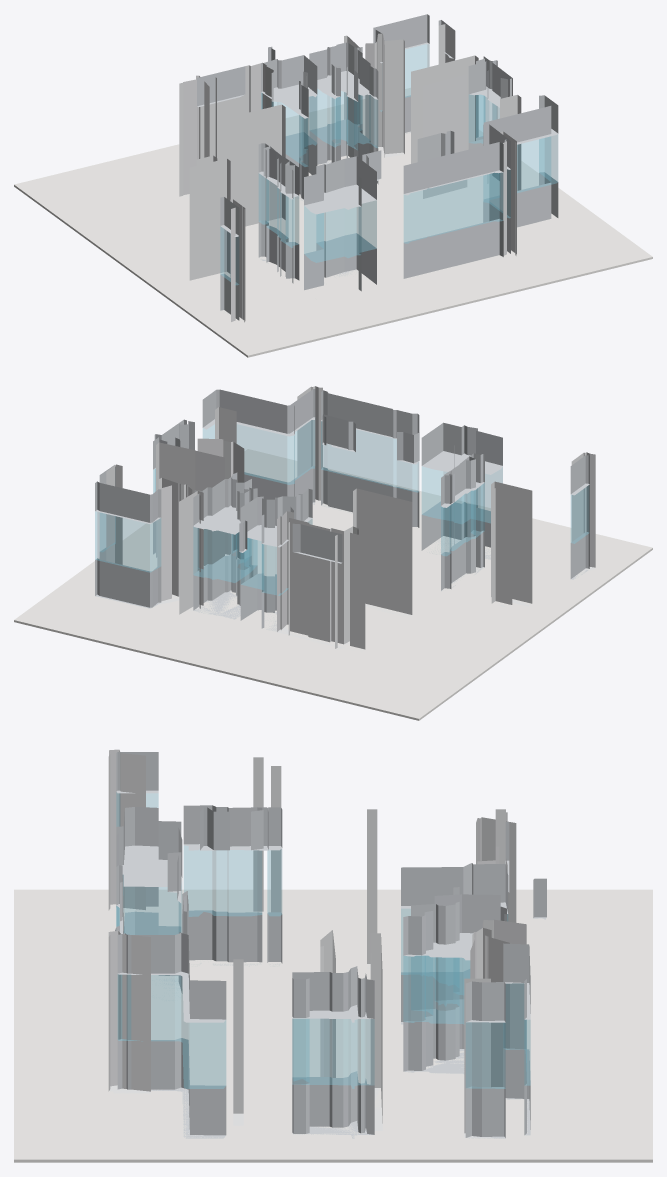
The model's file is test_unit_3bhk_v1.glb.
3 renders of one model, top to bottom at view 1: azimuth 30°, elevation 25°; view 2: azimuth 150°, elevation 25°; view 3: azimuth 270°, elevation 25°, orthographic. The views are drawn at different scales.
Visible parts, largest first — view 1: floor_slab, wall_008, wall_007, win_glass_012, wall_009, wall_004, win_sill_012, win_glass_010, win_lintel_010, win_glass_002, wall_003, win_lintel_012 (+26 smaller); view 2: floor_slab, wall_007, wall_008, win_glass_009, win_glass_012, win_lintel_009, wall_001, win_glass_000, win_lintel_010, wall_004, wall_009, win_sill_002 (+30 smaller); view 3: floor_slab, wall_005, win_glass_009, win_glass_006, win_glass_008, win_sill_009, win_lintel_002, win_sill_006, win_lintel_010, win_glass_002, win_sill_002, win_lintel_009 (+32 smaller).
Boxes of the visible parts, box(x1,y1,x2,y2) form: floor_slab: box(14, 88, 652, 357); wall_008: box(226, 104, 285, 229); wall_007: box(179, 62, 273, 196); win_glass_012: box(404, 172, 503, 243); wall_009: box(189, 158, 230, 280); wall_004: box(365, 33, 404, 157); win_sill_012: box(403, 219, 503, 278); win_glass_010: box(304, 200, 376, 262); win_lintel_010: box(304, 156, 376, 214); win_glass_002: box(309, 89, 377, 149); wall_003: box(423, 74, 467, 198); win_lintel_012: box(403, 142, 503, 195); floor_slab: box(14, 449, 652, 720); wall_007: box(277, 511, 365, 651); wall_008: box(353, 488, 412, 616); win_glass_009: box(203, 420, 314, 484); win_glass_012: box(321, 421, 418, 492); win_lintel_009: box(202, 389, 315, 436); wall_001: box(156, 442, 224, 566); win_glass_000: box(95, 511, 160, 572); win_lintel_010: box(421, 422, 502, 474); wall_004: box(157, 478, 192, 604); wall_009: box(491, 481, 532, 606); win_sill_002: box(193, 550, 257, 619); floor_slab: box(14, 889, 652, 1162); wall_005: box(108, 930, 150, 1093); win_glass_009: box(118, 974, 225, 1088); win_glass_006: box(292, 1018, 374, 1088); win_glass_008: box(184, 846, 261, 916); win_sill_009: box(117, 1038, 226, 1138); win_lintel_002: box(403, 894, 506, 960); win_sill_006: box(292, 1071, 374, 1138); win_lintel_010: box(116, 807, 182, 886); win_glass_002: box(403, 955, 469, 1023); win_sill_002: box(403, 999, 464, 1074); win_lintel_009: box(117, 933, 226, 1022).
Bounding box in the file's own units: 10.49 × 2.85 × 10.49.
